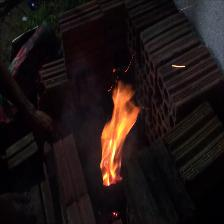fire: (97, 80, 141, 184)
